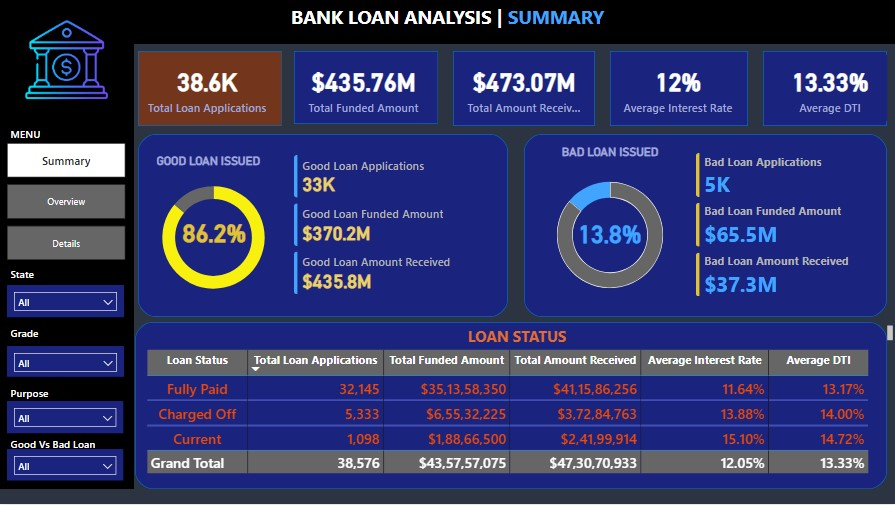

Layout of this report page (visuals, bound fields, positions):
{"tool":"powerbi","page":{"name":"Summary","canvas":[1280,720],"ordinal":0},"visuals":[{"type":"shape","box":[0,0,1280,62.8],"z":0},{"type":"shape","box":[198.4,72.8,205.5,107],"z":1000},{"type":"shape","box":[0,30,192.6,667.8],"z":2000},{"type":"textbox","box":[0,0,1280,62.8],"z":3000},{"type":"textbox","box":[192.6,308.2,195.5,28.5],"z":4000},{"type":"shape","box":[421,72.8,205.5,104.2],"z":5000},{"type":"shape","box":[647.8,72.8,202.6,107],"z":6000},{"type":"shape","box":[1090.2,72.8,176.9,107],"z":7000},{"type":"shape","box":[871.9,72.8,196.9,107],"z":8000},{"type":"card","fields":{"Values":["bank_loan_db bank_loan_analysis.Total Loan Applications"]},"box":[205.2,78.7,183.2,94.2],"z":9000},{"type":"card","fields":{"Values":["bank_loan_db bank_loan_analysis.Total Funded Amount"]},"box":[435.2,78.5,169.8,94.2],"z":10000},{"type":"card","fields":{"Values":["bank_loan_db bank_loan_analysis.Total Amount Received"]},"box":[660.7,78.5,176.9,94.2],"z":11000},{"type":"card","fields":{"Values":["bank_loan_db bank_loan_analysis.Average Interest Rate"]},"box":[881.9,78.5,174.1,94.2],"z":12000},{"type":"card","fields":{"Values":["bank_loan_db bank_loan_analysis.Average DTI"]},"box":[1104.5,78.5,162.7,94.2],"z":13000},{"type":"shape","box":[198.4,191.2,528,261.1],"z":14000},{"type":"shape","box":[749.2,191.2,518,261.1],"z":15000},{"type":"donutChart","fields":{"Category":["bank_loan_db bank_loan_analysis.Good vs Loan Loans"],"Y":["bank_loan_db bank_loan_analysis.Total Loan Applications"]},"box":[208.3,242.6,195.5,192.6],"z":16000},{"type":"card","fields":{"Values":["bank_loan_db bank_loan_analysis.Good Loan %"]},"box":[246.9,296.8,119.9,67.1],"z":17000},{"type":"textbox","box":[219.8,214,201.2,41.4],"z":18000},{"type":"cardVisual","fields":{"Data":["bank_loan_db bank_loan_analysis.Good Loan Applications","bank_loan_db bank_loan_analysis.Good Loan Funded Amount","bank_loan_db bank_loan_analysis.Good Loan Amount Received"]},"box":[403.8,204.1,306.8,235.5],"z":19000},{"type":"donutChart","fields":{"Category":["bank_loan_db bank_loan_analysis.Good vs Loan Loans"],"Y":["bank_loan_db bank_loan_analysis.Total Loan Applications"]},"box":[757.7,235.5,228.3,199.8],"z":20000},{"type":"textbox","box":[776.3,201.2,201.2,41.4],"z":21000},{"type":"card","fields":{"Values":["bank_loan_db bank_loan_analysis.Bad Loan %"]},"box":[820.5,303.9,101.3,55.7],"z":22000},{"type":"cardVisual","fields":{"Data":["bank_loan_db bank_loan_analysis.Bad Loan Applications","bank_loan_db bank_loan_analysis.Bad Loan Funded Amount","bank_loan_db bank_loan_analysis.Bad Loan Amount Received"]},"box":[977.5,201.2,274,241.2],"z":23000},{"type":"shape","box":[194.1,459.5,1073.1,238.3],"z":24000},{"type":"tableEx","fields":{"Values":["bank_loan_db bank_loan_analysis.loan_status","bank_loan_db bank_loan_analysis.Total Loan Applications","bank_loan_db bank_loan_analysis.Total Funded Amount","bank_loan_db bank_loan_analysis.Total Amount Received","bank_loan_db bank_loan_analysis.Average Interest Rate","bank_loan_db bank_loan_analysis.Average DTI"]},"box":[205.5,493.7,1046,191.2],"z":25000},{"type":"textbox","box":[205.5,459.5,1074.5,34.2],"z":26000},{"type":"slicer","fields":{"Values":["bank_loan_db bank_loan_analysis.address_state"]},"box":[11.4,406.7,167,45.7],"z":27000},{"type":"textbox","box":[11.4,375.3,174.1,31.4],"z":28000},{"type":"slicer","fields":{"Values":["bank_loan_db bank_loan_analysis.grade"]},"box":[11.4,493.7,167,44.2],"z":29000},{"type":"textbox","box":[11.4,459.5,178.4,34.2],"z":30000},{"type":"slicer","fields":{"Values":["bank_loan_db bank_loan_analysis.purpose"]},"box":[11.6,571.6,166.5,46.5],"z":31000},{"type":"textbox","box":[11.4,545.1,172.7,34.2],"z":32000},{"type":"image","box":[11.4,11.4,169.8,149.8],"z":33000},{"type":"pageNavigator","box":[11.4,204.1,169.8,168.4],"z":34000},{"type":"textbox","box":[11.4,175.5,178.4,31.4],"z":35000},{"type":"slicer","fields":{"Values":["bank_loan_db bank_loan_analysis.Good vs Bad Loans"]},"box":[11.6,640,166.5,45.2],"z":36000},{"type":"textbox","box":[11.4,617.9,178.4,34.2],"z":37000},{"type":"textbox","box":[216.9,147,178.4,32.8],"z":38000}]}

Visuals, with their boxes in screenshot pixels (x1, y1, x2, y2), scaled from the page's 1280x720 canvas onto the 895x505 screenshot:
shape: box=[0, 0, 894, 44]
shape: box=[139, 51, 282, 126]
shape: box=[0, 21, 135, 489]
textbox: box=[0, 0, 894, 44]
textbox: box=[135, 216, 271, 236]
shape: box=[294, 51, 438, 124]
shape: box=[453, 51, 595, 126]
shape: box=[762, 51, 886, 126]
shape: box=[610, 51, 747, 126]
card - bank_loan_db bank_loan_analysis.Total Loan Applications: box=[143, 55, 272, 121]
card - bank_loan_db bank_loan_analysis.Total Funded Amount: box=[304, 55, 423, 121]
card - bank_loan_db bank_loan_analysis.Total Amount Received: box=[462, 55, 586, 121]
card - bank_loan_db bank_loan_analysis.Average Interest Rate: box=[617, 55, 738, 121]
card - bank_loan_db bank_loan_analysis.Average DTI: box=[772, 55, 886, 121]
shape: box=[139, 134, 508, 317]
shape: box=[524, 134, 886, 317]
donutChart - bank_loan_db bank_loan_analysis.Good vs Loan Loans x bank_loan_db bank_loan_analysis.Total Loan Applications: box=[146, 170, 282, 305]
card - bank_loan_db bank_loan_analysis.Good Loan %: box=[173, 208, 256, 255]
textbox: box=[154, 150, 294, 179]
cardVisual - bank_loan_db bank_loan_analysis.Good Loan Applications x bank_loan_db bank_loan_analysis.Good Loan Funded Amount: box=[282, 143, 497, 308]
donutChart - bank_loan_db bank_loan_analysis.Good vs Loan Loans x bank_loan_db bank_loan_analysis.Total Loan Applications: box=[530, 165, 689, 305]
textbox: box=[543, 141, 683, 170]
card - bank_loan_db bank_loan_analysis.Bad Loan %: box=[574, 213, 645, 252]
cardVisual - bank_loan_db bank_loan_analysis.Bad Loan Applications x bank_loan_db bank_loan_analysis.Bad Loan Funded Amount: box=[683, 141, 875, 310]
shape: box=[136, 322, 886, 489]
tableEx - bank_loan_db bank_loan_analysis.loan_status x bank_loan_db bank_loan_analysis.Total Loan Applications: box=[144, 346, 875, 480]
textbox: box=[144, 322, 894, 346]
slicer - bank_loan_db bank_loan_analysis.address_state: box=[8, 285, 125, 317]
textbox: box=[8, 263, 130, 285]
slicer - bank_loan_db bank_loan_analysis.grade: box=[8, 346, 125, 377]
textbox: box=[8, 322, 133, 346]
slicer - bank_loan_db bank_loan_analysis.purpose: box=[8, 401, 125, 434]
textbox: box=[8, 382, 129, 406]
image: box=[8, 8, 127, 113]
pageNavigator: box=[8, 143, 127, 261]
textbox: box=[8, 123, 133, 145]
slicer - bank_loan_db bank_loan_analysis.Good vs Bad Loans: box=[8, 449, 125, 481]
textbox: box=[8, 433, 133, 457]
textbox: box=[152, 103, 276, 126]
